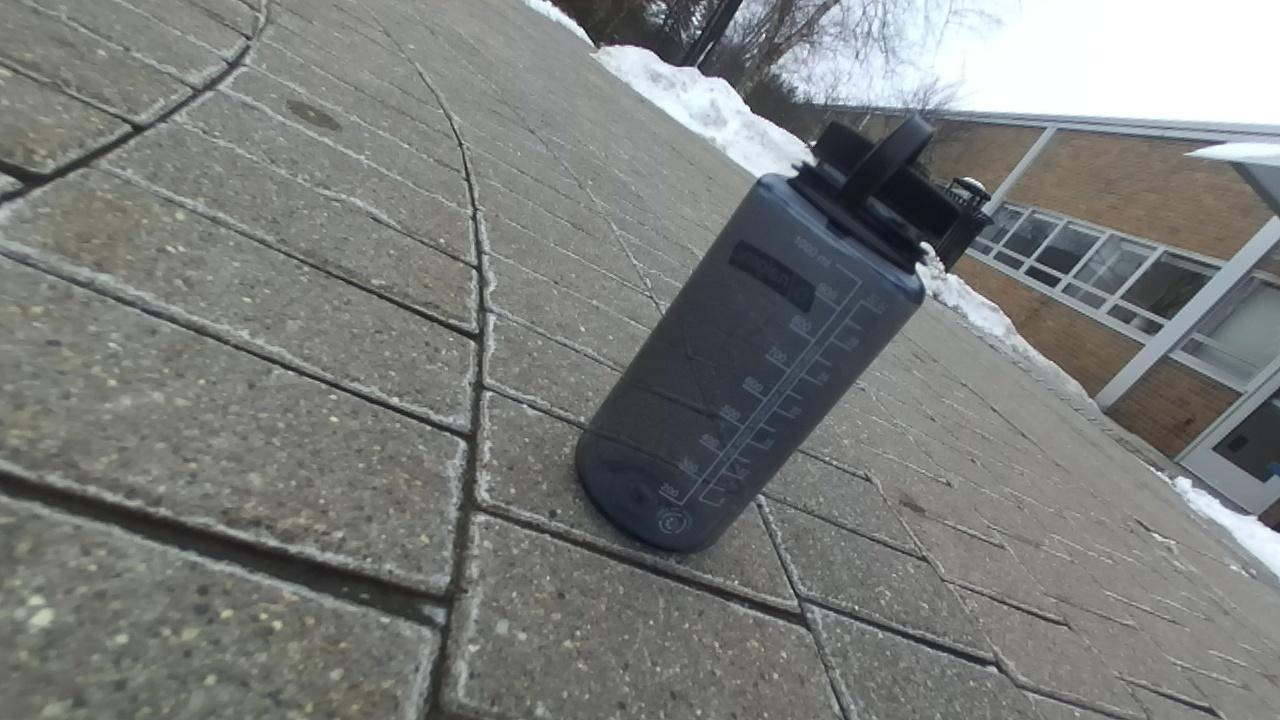bottle: (575, 114, 988, 551)
